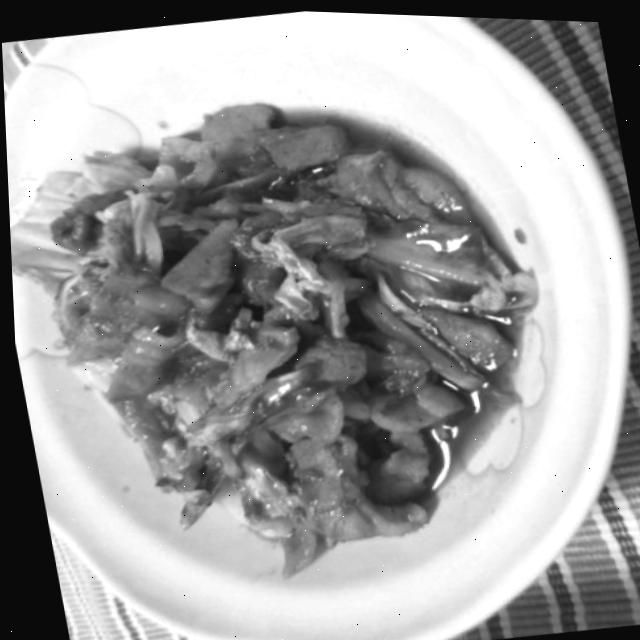三明治: (214, 140, 640, 640)
